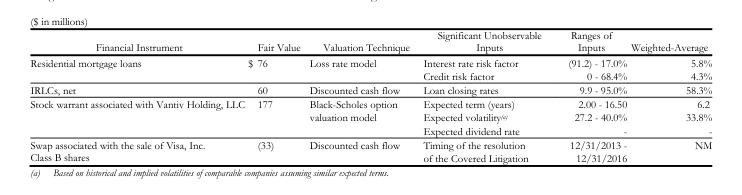table: (29, 29, 711, 164)
table column: (29, 29, 245, 164), (415, 29, 554, 164), (304, 29, 415, 164), (628, 29, 711, 164), (554, 29, 628, 164), (245, 29, 304, 164)
table column header: (29, 29, 711, 54)
table row: (29, 96, 711, 137), (29, 54, 711, 82), (29, 137, 711, 164), (29, 29, 711, 54), (29, 82, 711, 96)
